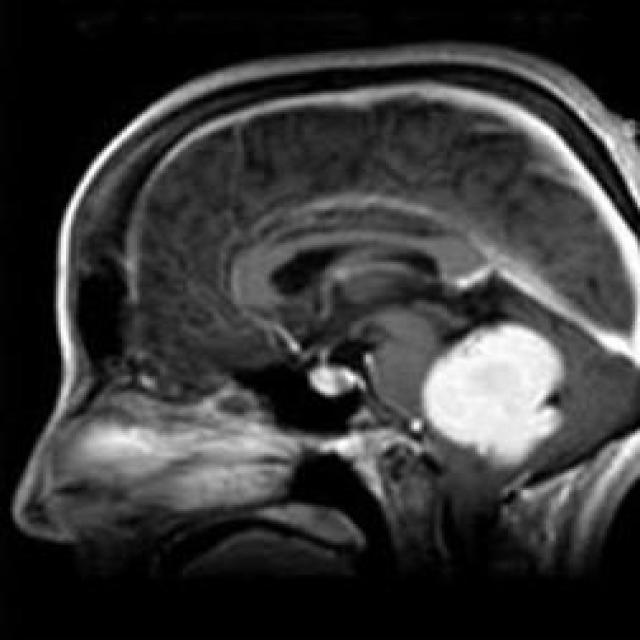Tumor: (424, 325, 566, 466)
